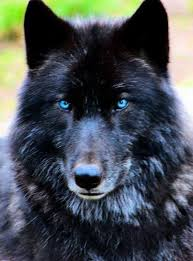Lobo: (1, 1, 193, 211)
